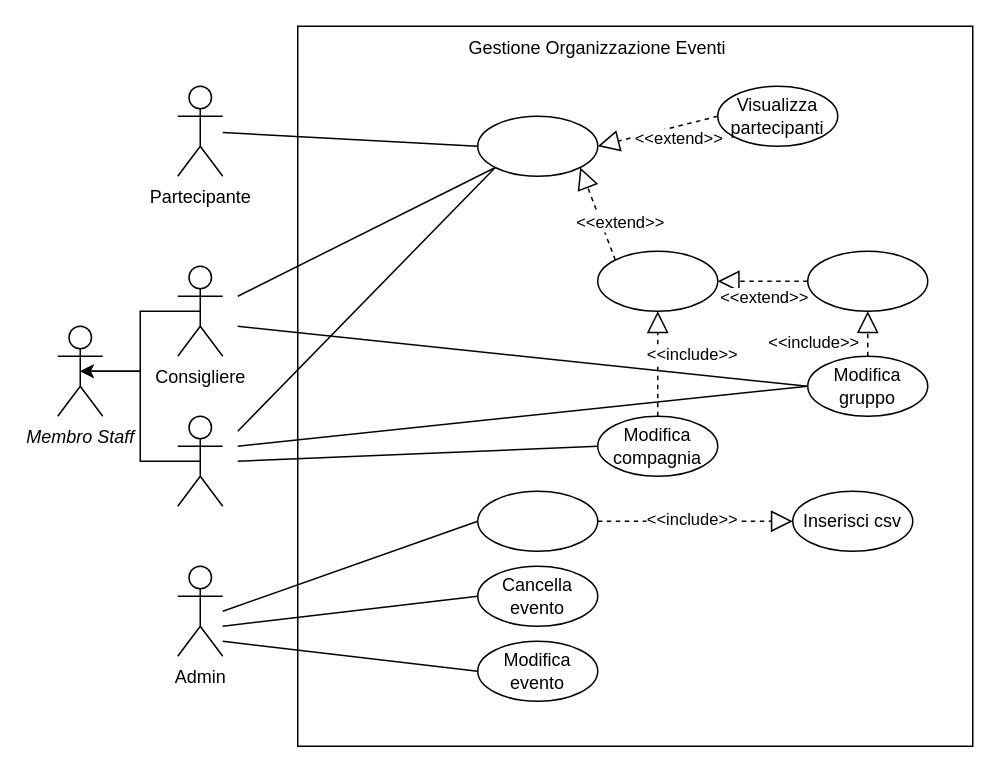
Some shapes in this 999 by 773 pixel diagram are drawn without their labels. Each missing label, with the centre of its shape:
Assistente: pixel 199 460
Crea evento: pixel 537 520
Visualizza compagnie: pixel 657 280
Visualizza evento: pixel 537 145
Visualizza gruppi: pixel 867 280
